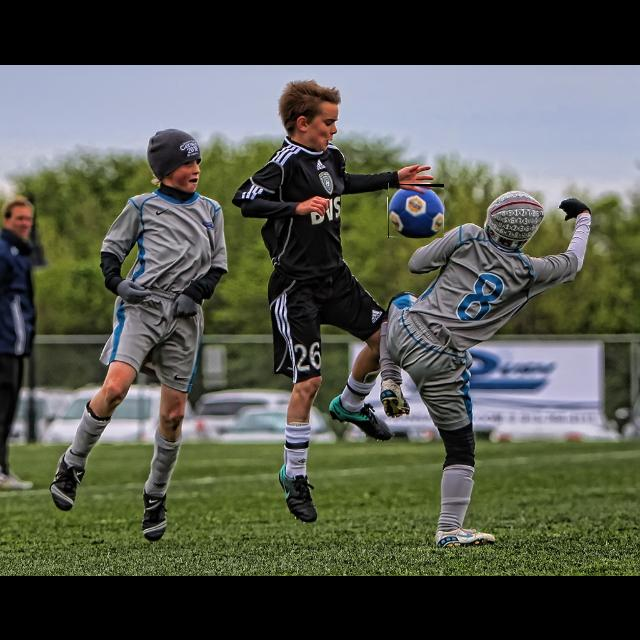Football: (388, 184, 444, 238)
